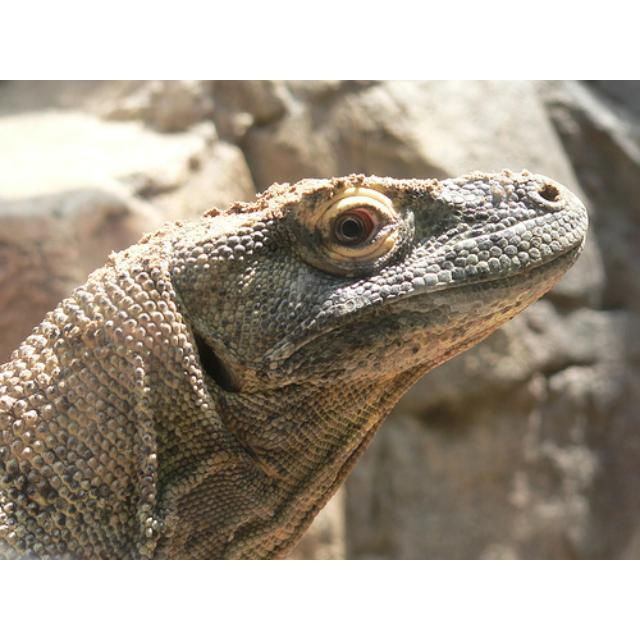KomodoDragon: (0, 170, 586, 555)
